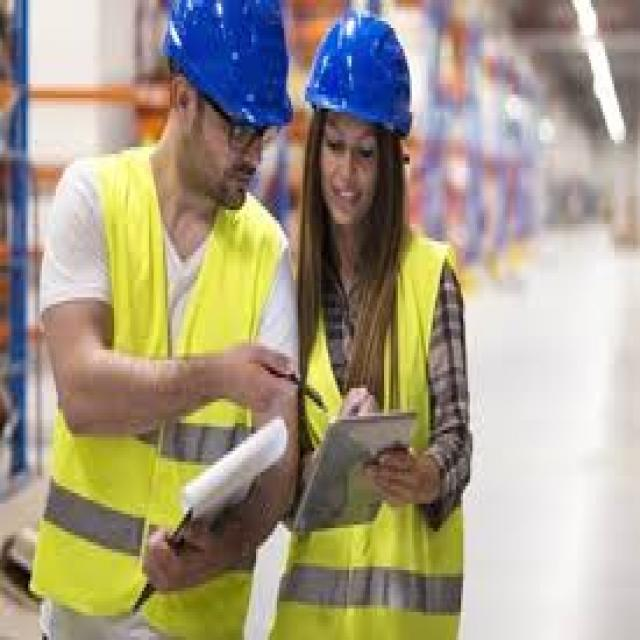Reflective-Jacket: (23, 161, 284, 622), (272, 231, 470, 629)
Safety-Helmet: (156, 3, 295, 140), (300, 10, 421, 147)
